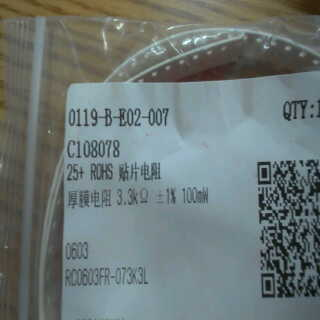3.3kO: (110, 182, 153, 206)
